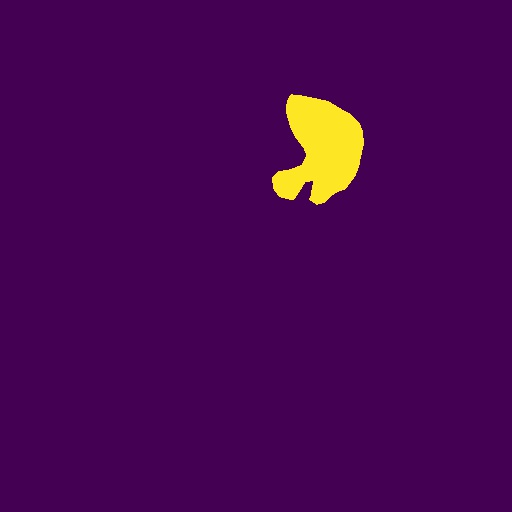Gliomia_tumour: (272, 94, 364, 205)
